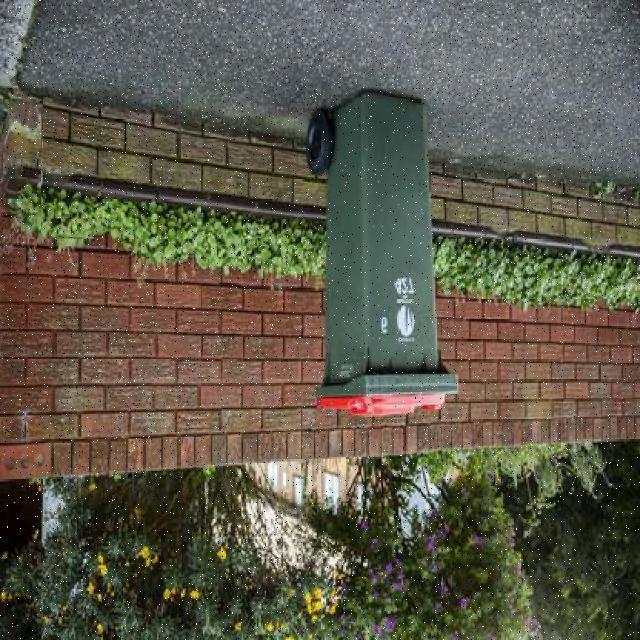garbage container: (305, 74, 467, 428)
